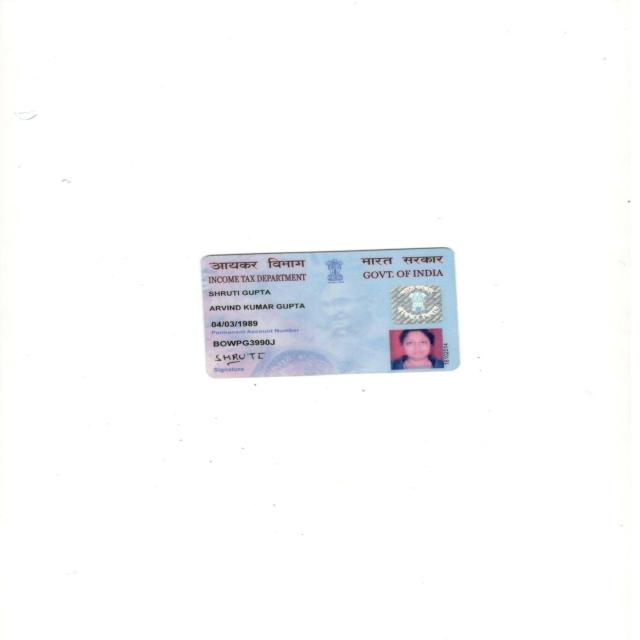pan_card: (197, 246, 458, 380)
